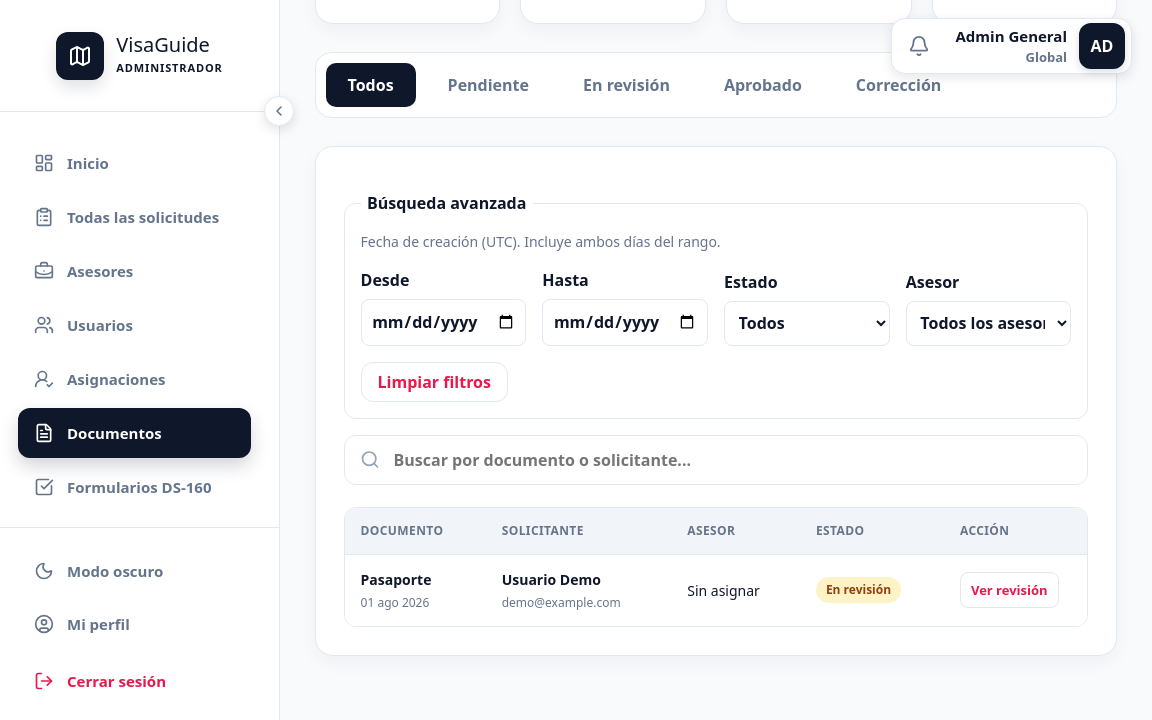
Test: panel de administracion › permite aprobar un documento sin recargar la pagina
This screenshot has width=1152, height=720.
(page scrolled)
Expected: the text "Usuario Demo" is shown, x1=502 y1=570 x2=601 y2=589
Click the button "Ver revisión" at (1009,590), box x1=960 y1=572 x2=1059 y2=608
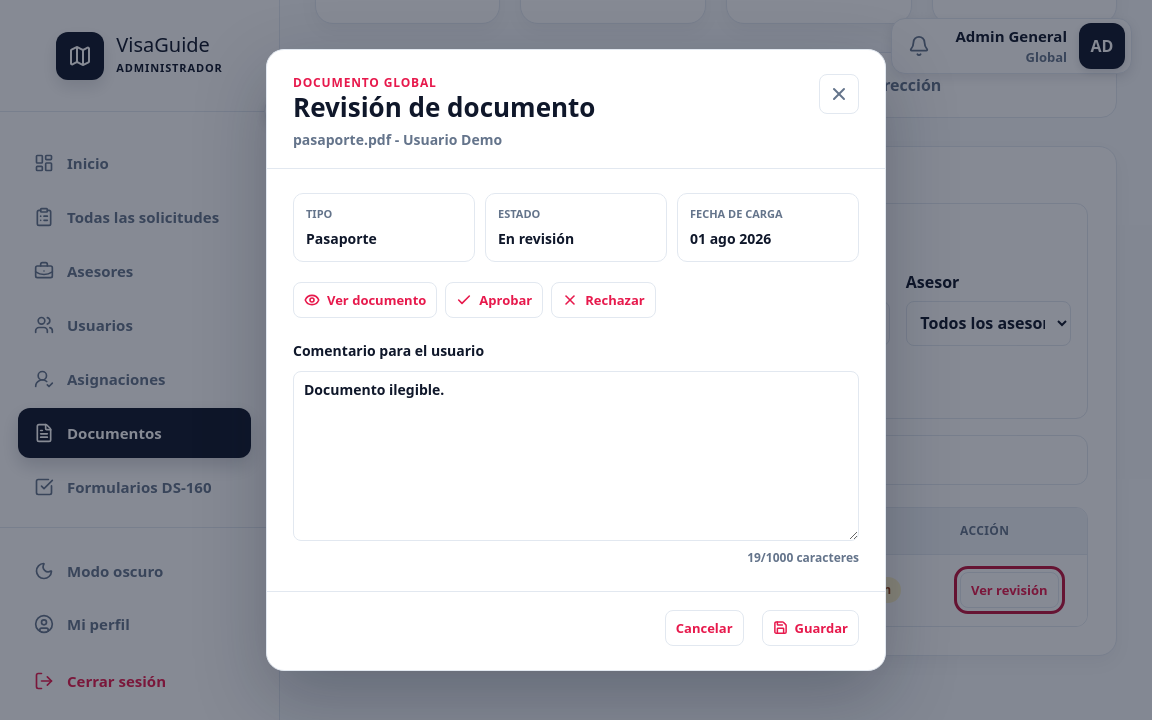
Click the button "Aprobar" at (494,300), box x1=445 y1=282 x2=543 y2=318
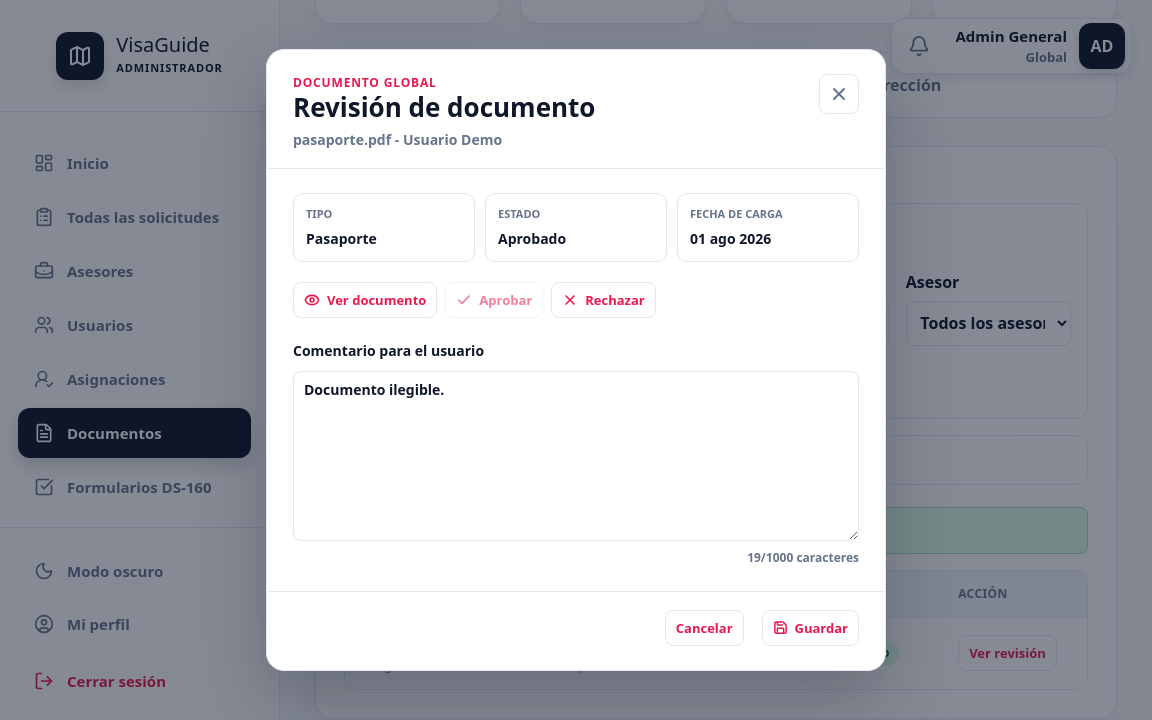
Expected: the text "Documento aprobado correctamente." is shown, x1=344 y1=507 x2=1088 y2=554
Expected: the text "Aprobado" in the row of "demo@example.com" is shown, x1=831 y1=644 x2=889 y2=661
